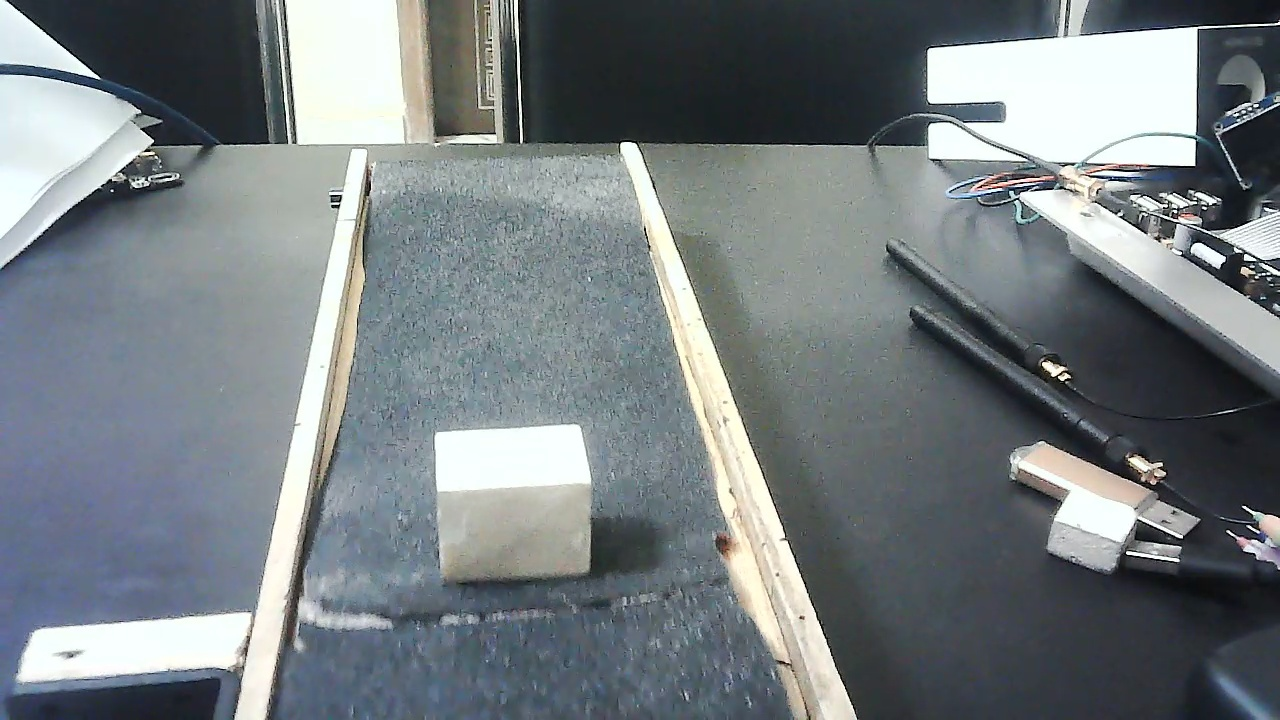Medium: (434, 422, 592, 580)
